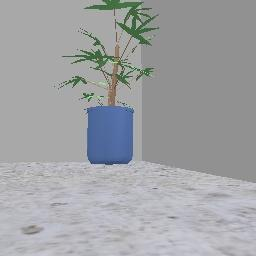planta: (58, 0, 158, 163)
